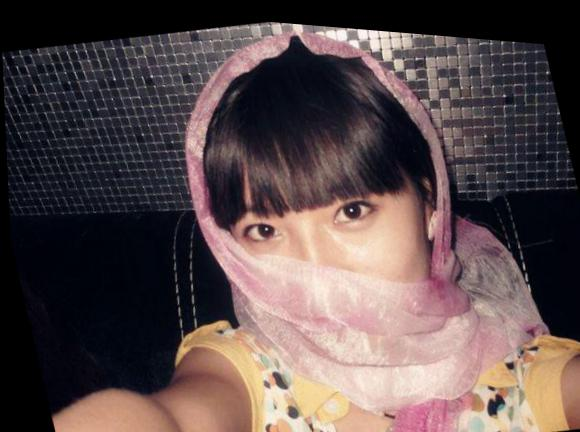WRONG: (217, 147, 446, 391)
